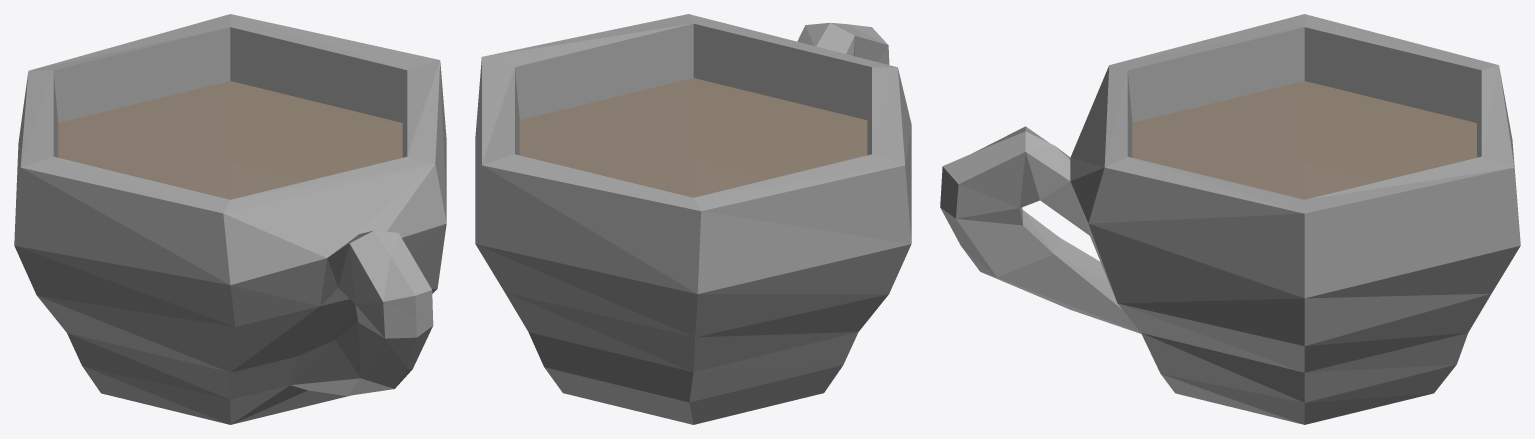
The model's file is cupCoffee.fbx.
3 views of the same model, side by side, from view 1: azimuth 30°, elevation 25°; view 2: azimuth 150°, elevation 25°; view 3: azimuth 270°, elevation 25° (orthographic).
Parts seen in each view (by area): view 1: pCylinder1; view 2: pCylinder1; view 3: pCylinder1.
Boxes of the visible parts, box(x1,y1,x2,y2) form: pCylinder1: box(14, 14, 446, 424); pCylinder1: box(475, 14, 911, 424); pCylinder1: box(940, 14, 1520, 424).
Bounding box in the file's own units: 0.0167 × 0.00925 × 0.0194.
